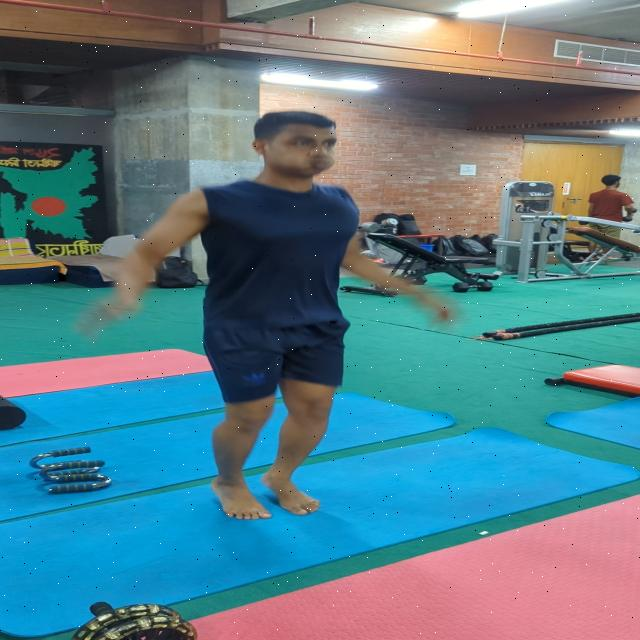Normal_JumpingJacks: (115, 92, 480, 557)
